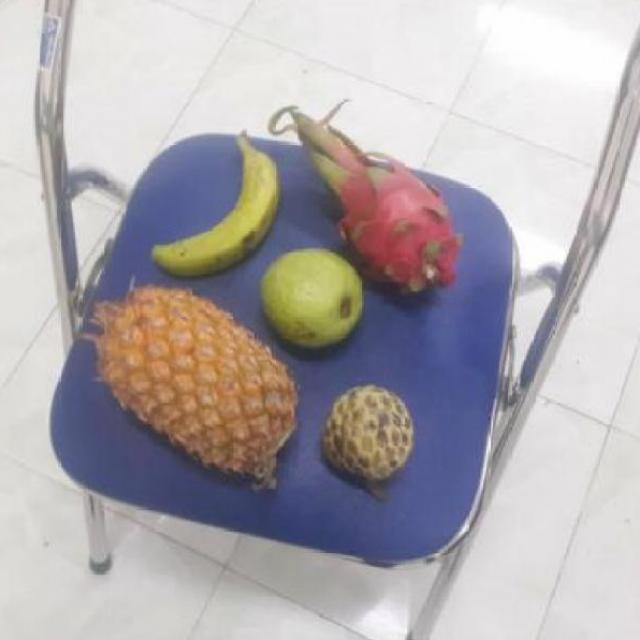banana: (146, 142, 280, 278)
dragon fruit: (296, 136, 456, 294)
guava: (256, 249, 364, 354)
pineapple: (85, 287, 296, 483)
sugar apple: (312, 384, 412, 484)
